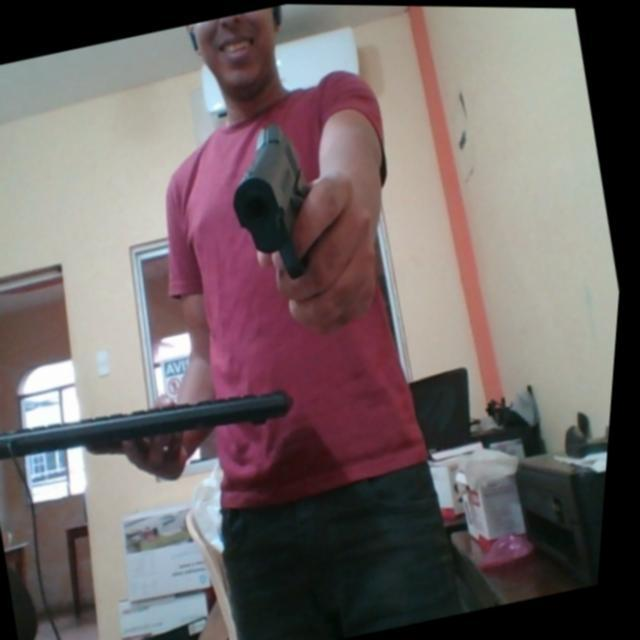weapon: (213, 113, 339, 290)
